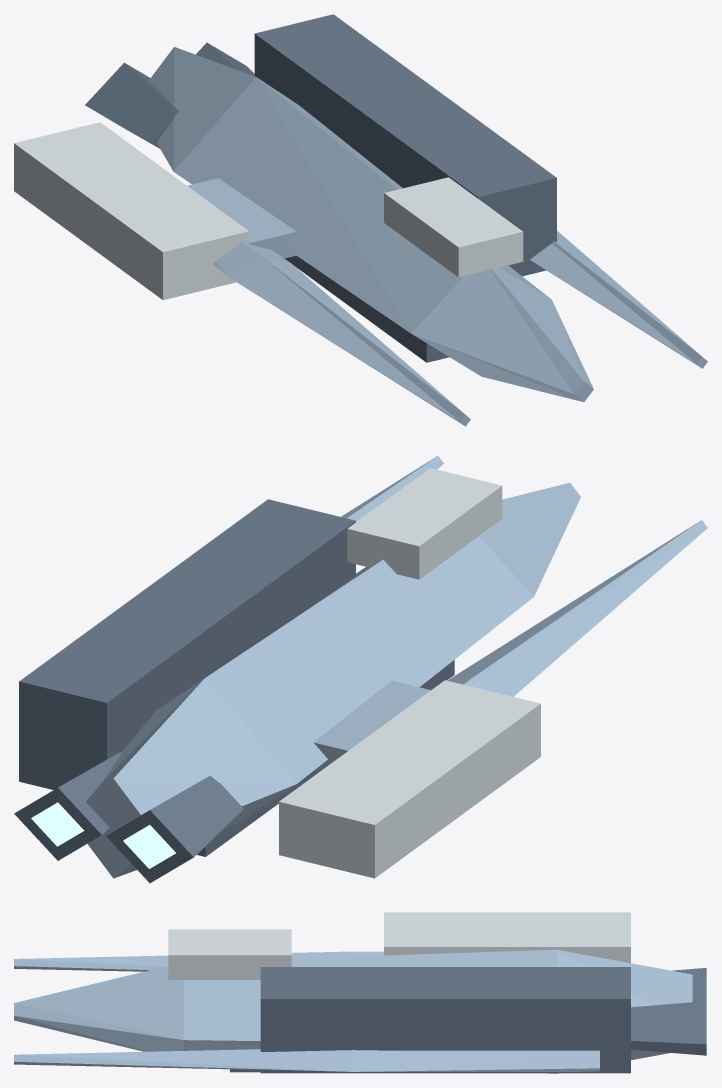
The picture shows the model from 3 angles, top to bottom: view 1: azimuth 30°, elevation 25°; view 2: azimuth 150°, elevation 25°; view 3: azimuth 270°, elevation 25°; orthographic projection. The views are drawn at different scales.
Bounding box in the file's own units: 2.1 × 0.9222 × 4.41.
